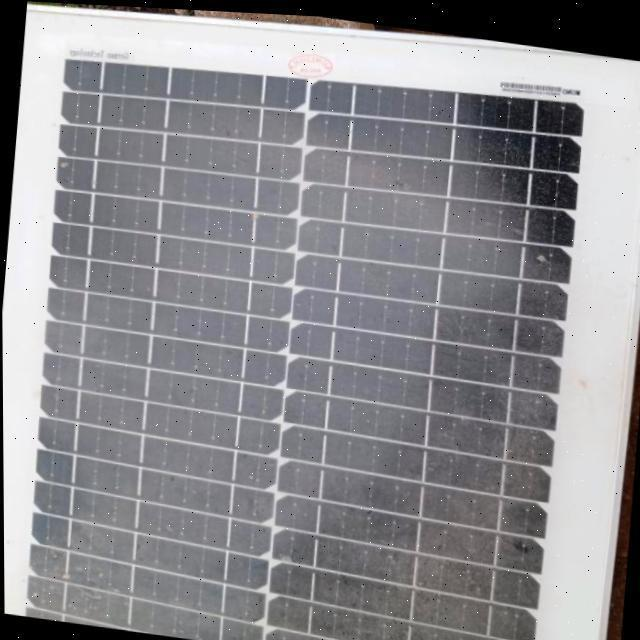Surface Contaminant: (4, 46, 591, 640)
